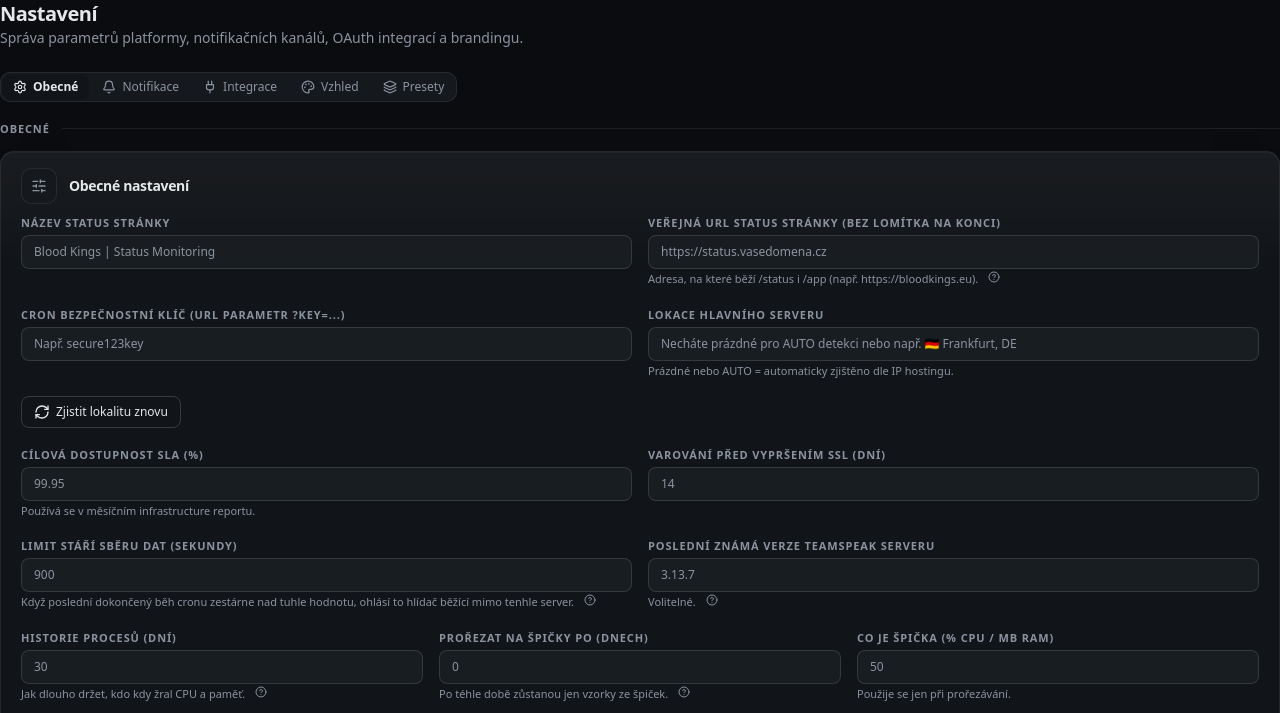
Scenario: Nastavení: denní připomínka › obě pole mají pod sebou vysvětlení, proč existují
Click the button "Notifikace" at (141, 87), box 92,75 -> 189,99
(page scrolled)
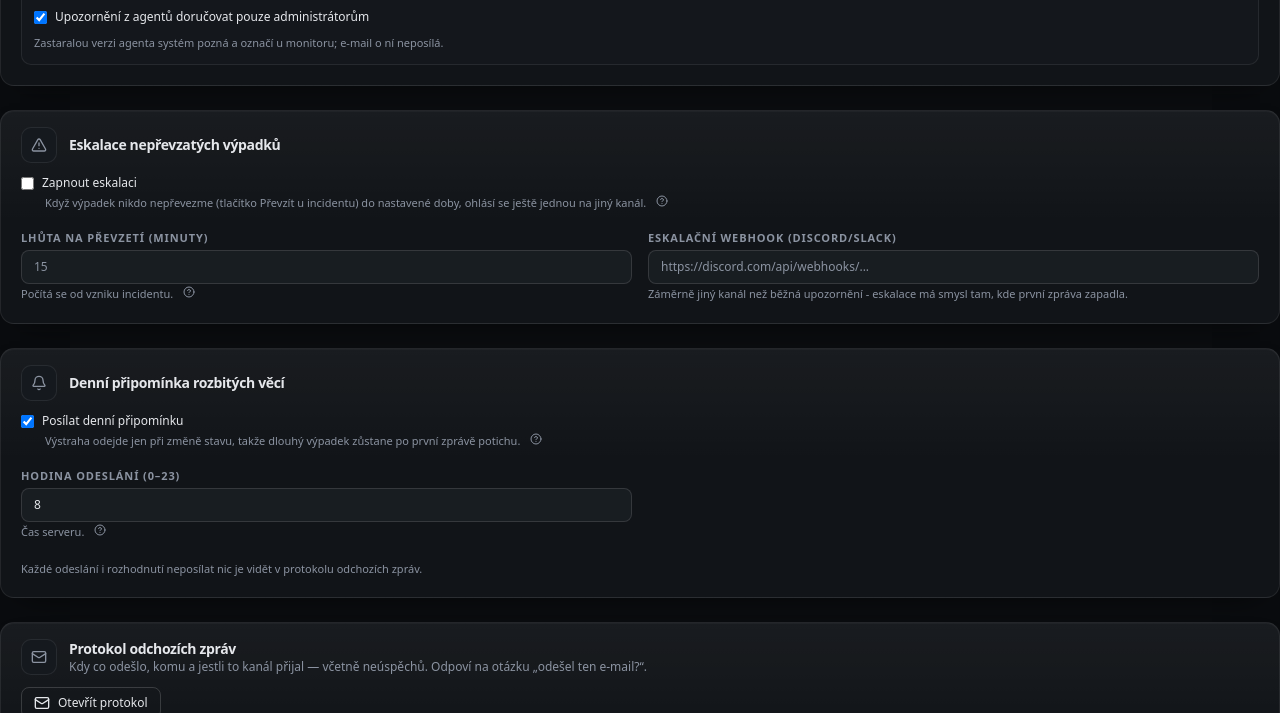
Now the text "Posílat denní připomínku" is shown, box 42,413 -> 184,429
Click the button named "Víc o tomto nastavení: Výstraha odejde" at (536, 439), box 524,427 -> 548,451
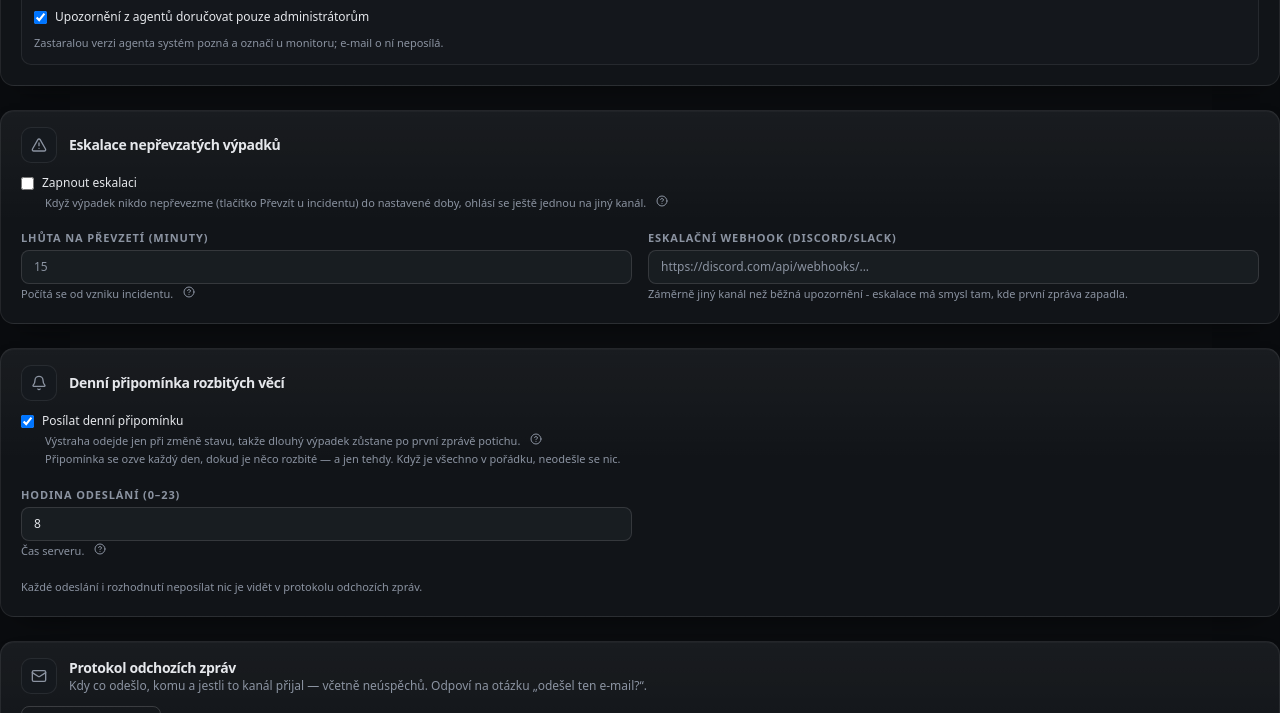
Now the field showing "8" is shown, box 21,507 -> 632,541
Now the text "Hodina odeslání (0–23)" is shown, box 21,487 -> 180,502
Now the text "Když je všechno v pořádku, neodešle se nic" is shown, box 45,451 -> 621,466
Click the button named "Víc o tomto nastavení: Čas serveru." at (100, 549), box 88,537 -> 112,561
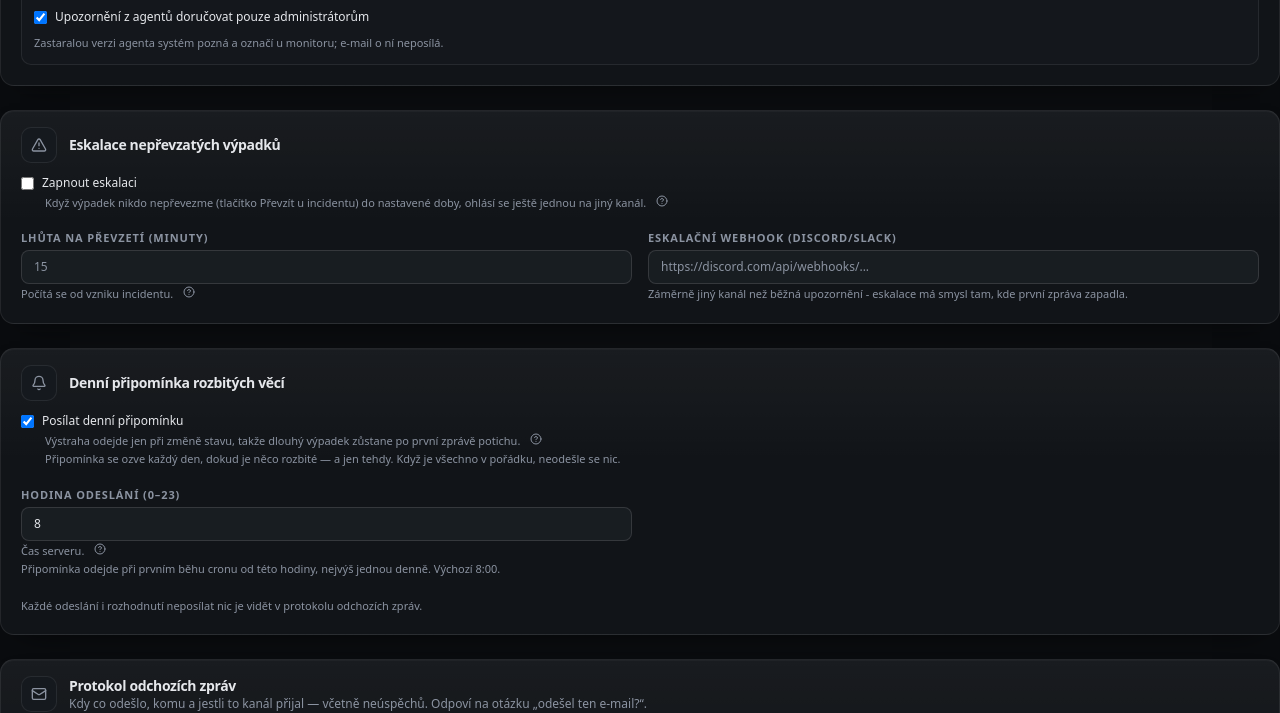
Now the text "nejvýš jednou denně" is shown, box 21,561 -> 500,576
